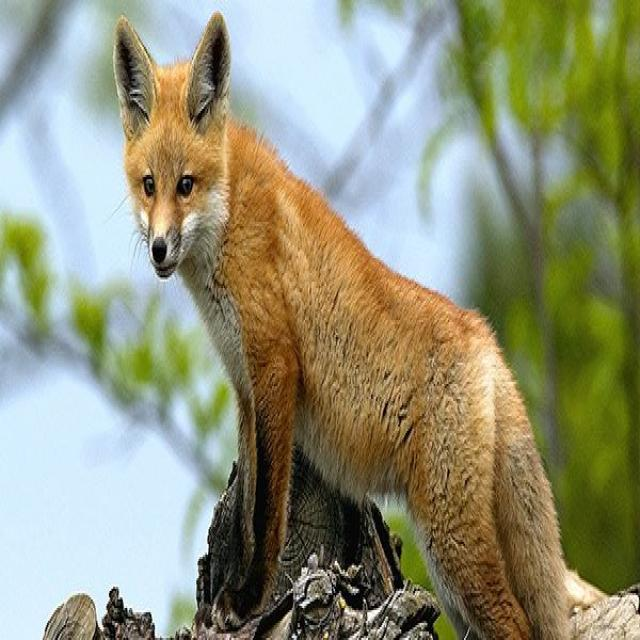fox: (111, 8, 574, 638)
